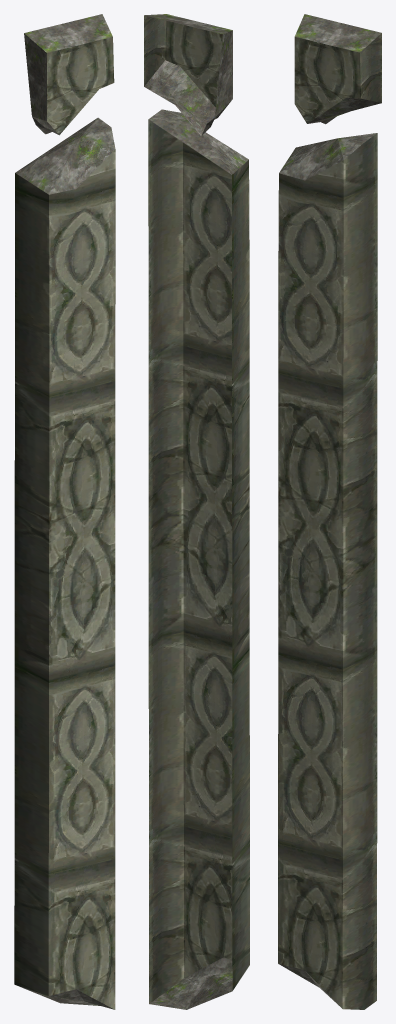
File: jingling_02_building_02g.obj
3 renders of one model, left to right at view 1: azimuth 30°, elevation 25°; view 2: azimuth 150°, elevation 25°; view 3: azimuth 330°, elevation 25°, orthographic.
Visible parts, largest first — view 1: jingling_02_building_02g; view 2: jingling_02_building_02g; view 3: jingling_02_building_02g.
Part boxes in pixels (left/top/right/bottom): jingling_02_building_02g: left=14, top=14, right=115, bottom=1009; jingling_02_building_02g: left=144, top=14, right=249, bottom=1009; jingling_02_building_02g: left=278, top=14, right=381, bottom=1009.
Size of the model in its own units: 174 by 1858 by 90.06.
2 materials, 2 textured.
